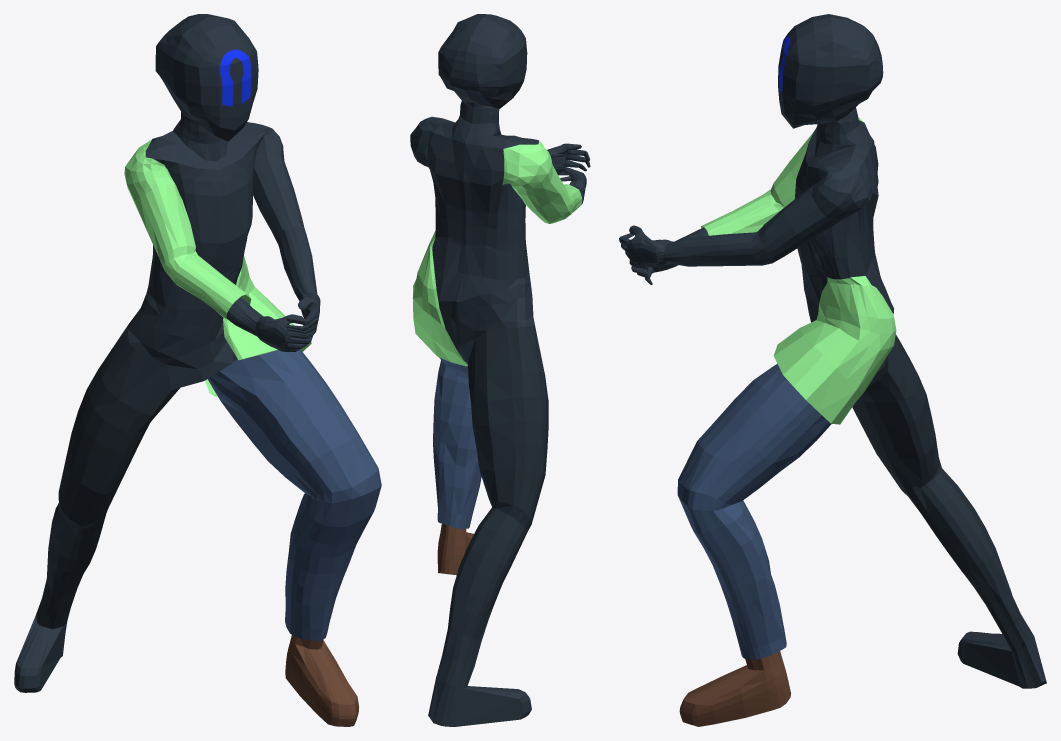
File: Mar_WL_000008.obj
The picture shows the model from 3 angles, left to right: view 1: azimuth 30°, elevation 25°; view 2: azimuth 150°, elevation 25°; view 3: azimuth 270°, elevation 25°; orthographic projection. The views are drawn at different scales.
Visible parts, largest first — view 1: Cube.000_Cube.001; view 2: Cube.000_Cube.001; view 3: Cube.000_Cube.001.
Boxes of the visible parts, box(x1,y1,x2,y2) form: Cube.000_Cube.001: box(14, 14, 381, 726); Cube.000_Cube.001: box(410, 14, 590, 726); Cube.000_Cube.001: box(619, 14, 1046, 726).
Bounding box in the file's own units: 1.26 × 3.71 × 2.07.
